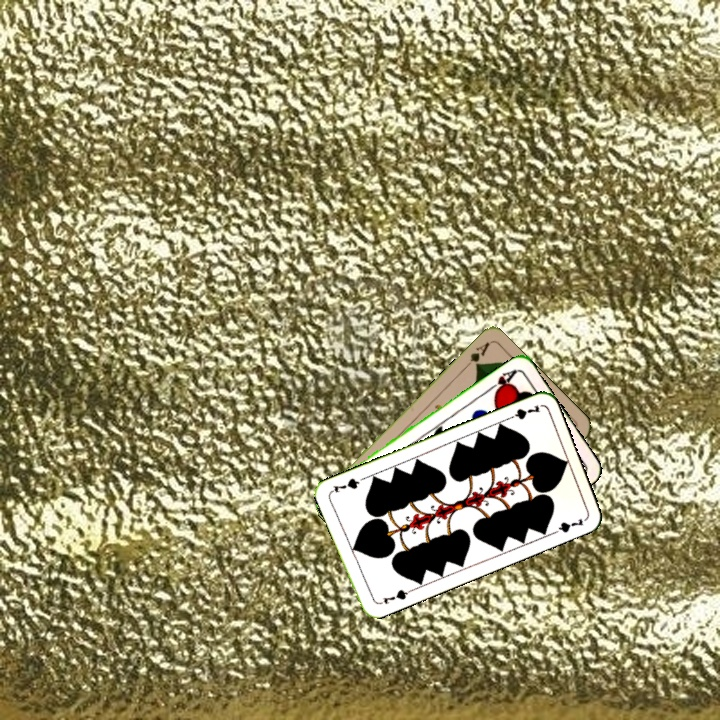G7: (503, 401, 543, 423), (374, 585, 413, 607)
GA: (460, 338, 492, 372)
HA: (484, 365, 520, 398)
